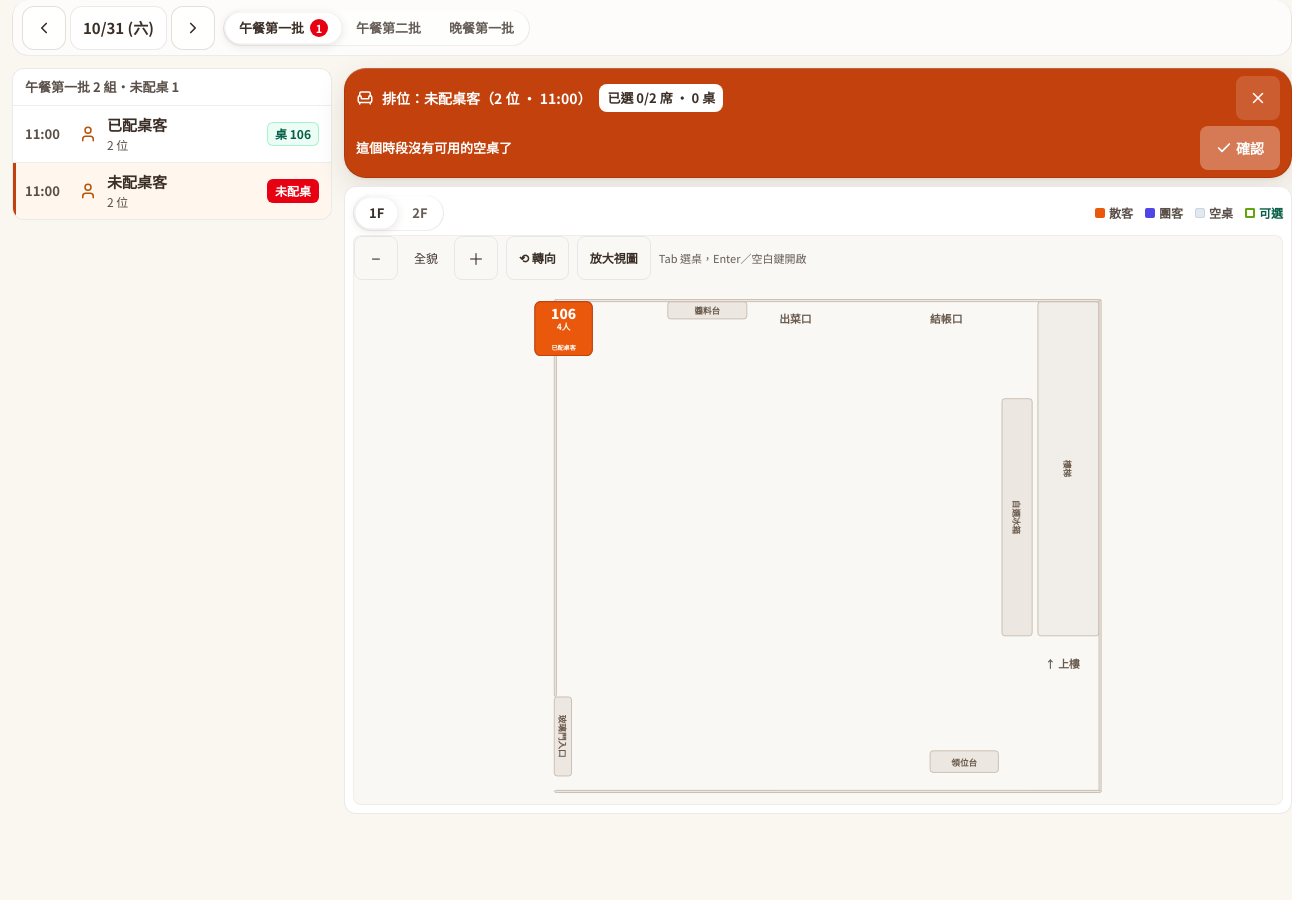
DaySeatingPanel × 角色 › 今天已在現場鎖桌的訂位：不給改桌／取消配桌，提示到現場頁
What coordinates should you click on to do the following:
click the button "11:00 已配桌客 2 位 桌 106"
I would click on:
 (42, 133)
Its box is [13,106,331,162].
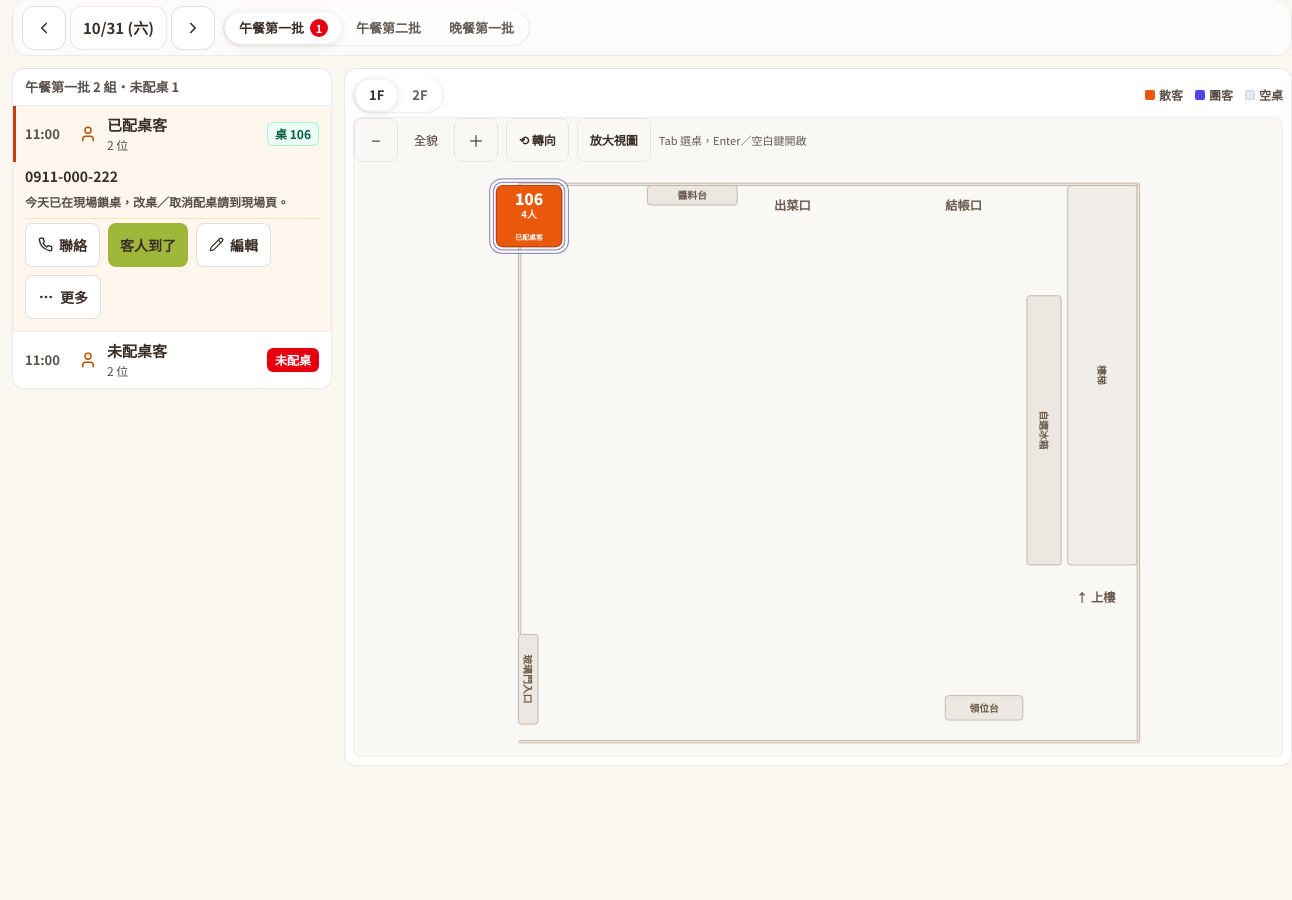
Now the text "今天已在現場鎖桌" is shown, box [25,192,289,210]
